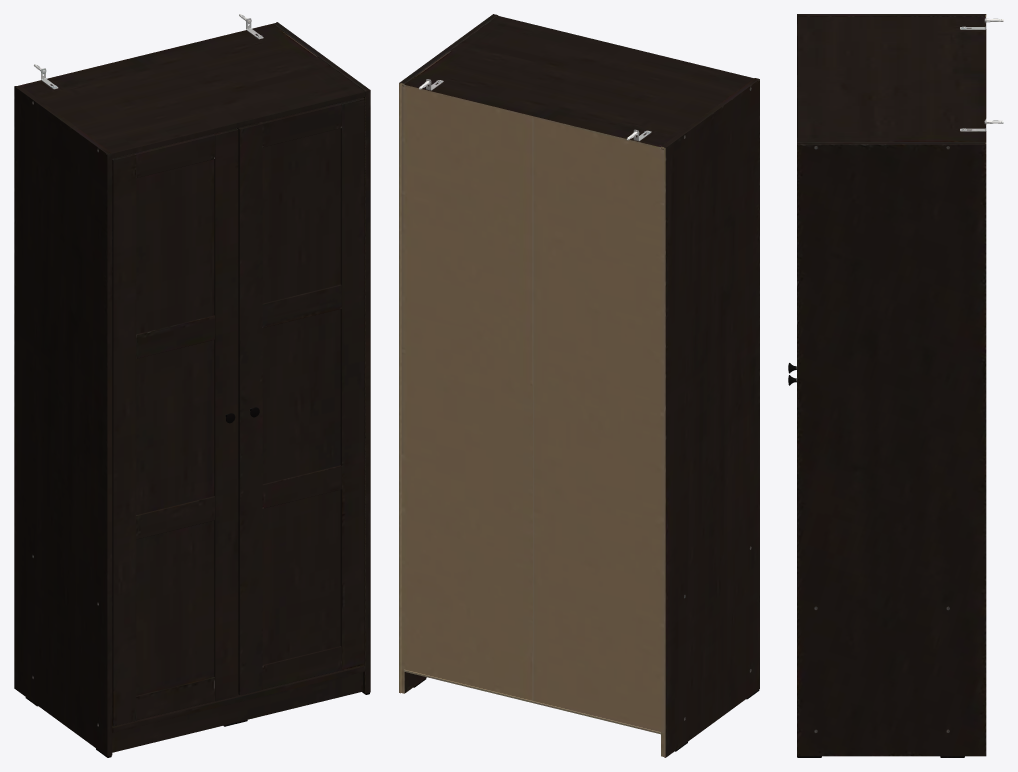
3 views of the same model, side by side, from view 1: azimuth 30°, elevation 25°; view 2: azimuth 150°, elevation 25°; view 3: azimuth 270°, elevation 25° (orthographic).
Parts seen in each view (by area): view 1: Mesh_0; view 2: Mesh_0; view 3: Mesh_0.
Boxes of the visible parts, left/top/right/bottom form: Mesh_0: left=14, top=14, right=370, bottom=757; Mesh_0: left=399, top=14, right=759, bottom=757; Mesh_0: left=788, top=14, right=1003, bottom=757.
Bounding box in the file's own units: 0.7901 × 1.76 × 0.5501.
Materials: 1 (1 with a texture image).
